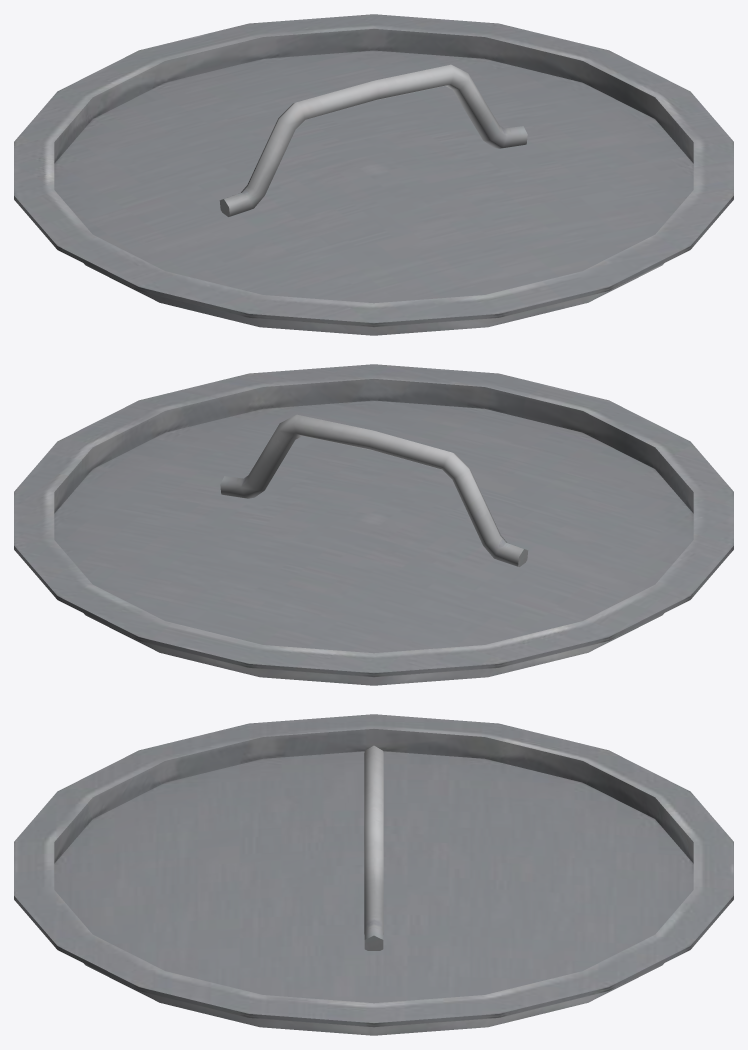
Rendered from SM_Pan_Lid_02.glb.
The picture shows the model from 3 angles, top to bottom: view 1: azimuth 30°, elevation 25°; view 2: azimuth 150°, elevation 25°; view 3: azimuth 270°, elevation 25°; orthographic projection.
Parts seen in each view (by area): view 1: SM_Pan_Lid_02; view 2: SM_Pan_Lid_02; view 3: SM_Pan_Lid_02.
Part boxes in pixels (bbox=[...]): SM_Pan_Lid_02: bbox=[14, 14, 733, 335]; SM_Pan_Lid_02: bbox=[14, 364, 733, 685]; SM_Pan_Lid_02: bbox=[14, 714, 733, 1035].
Bounding box in the file's own units: 0.3145 × 0.0542 × 0.3097.
Materials: 1 (1 with a texture image).
